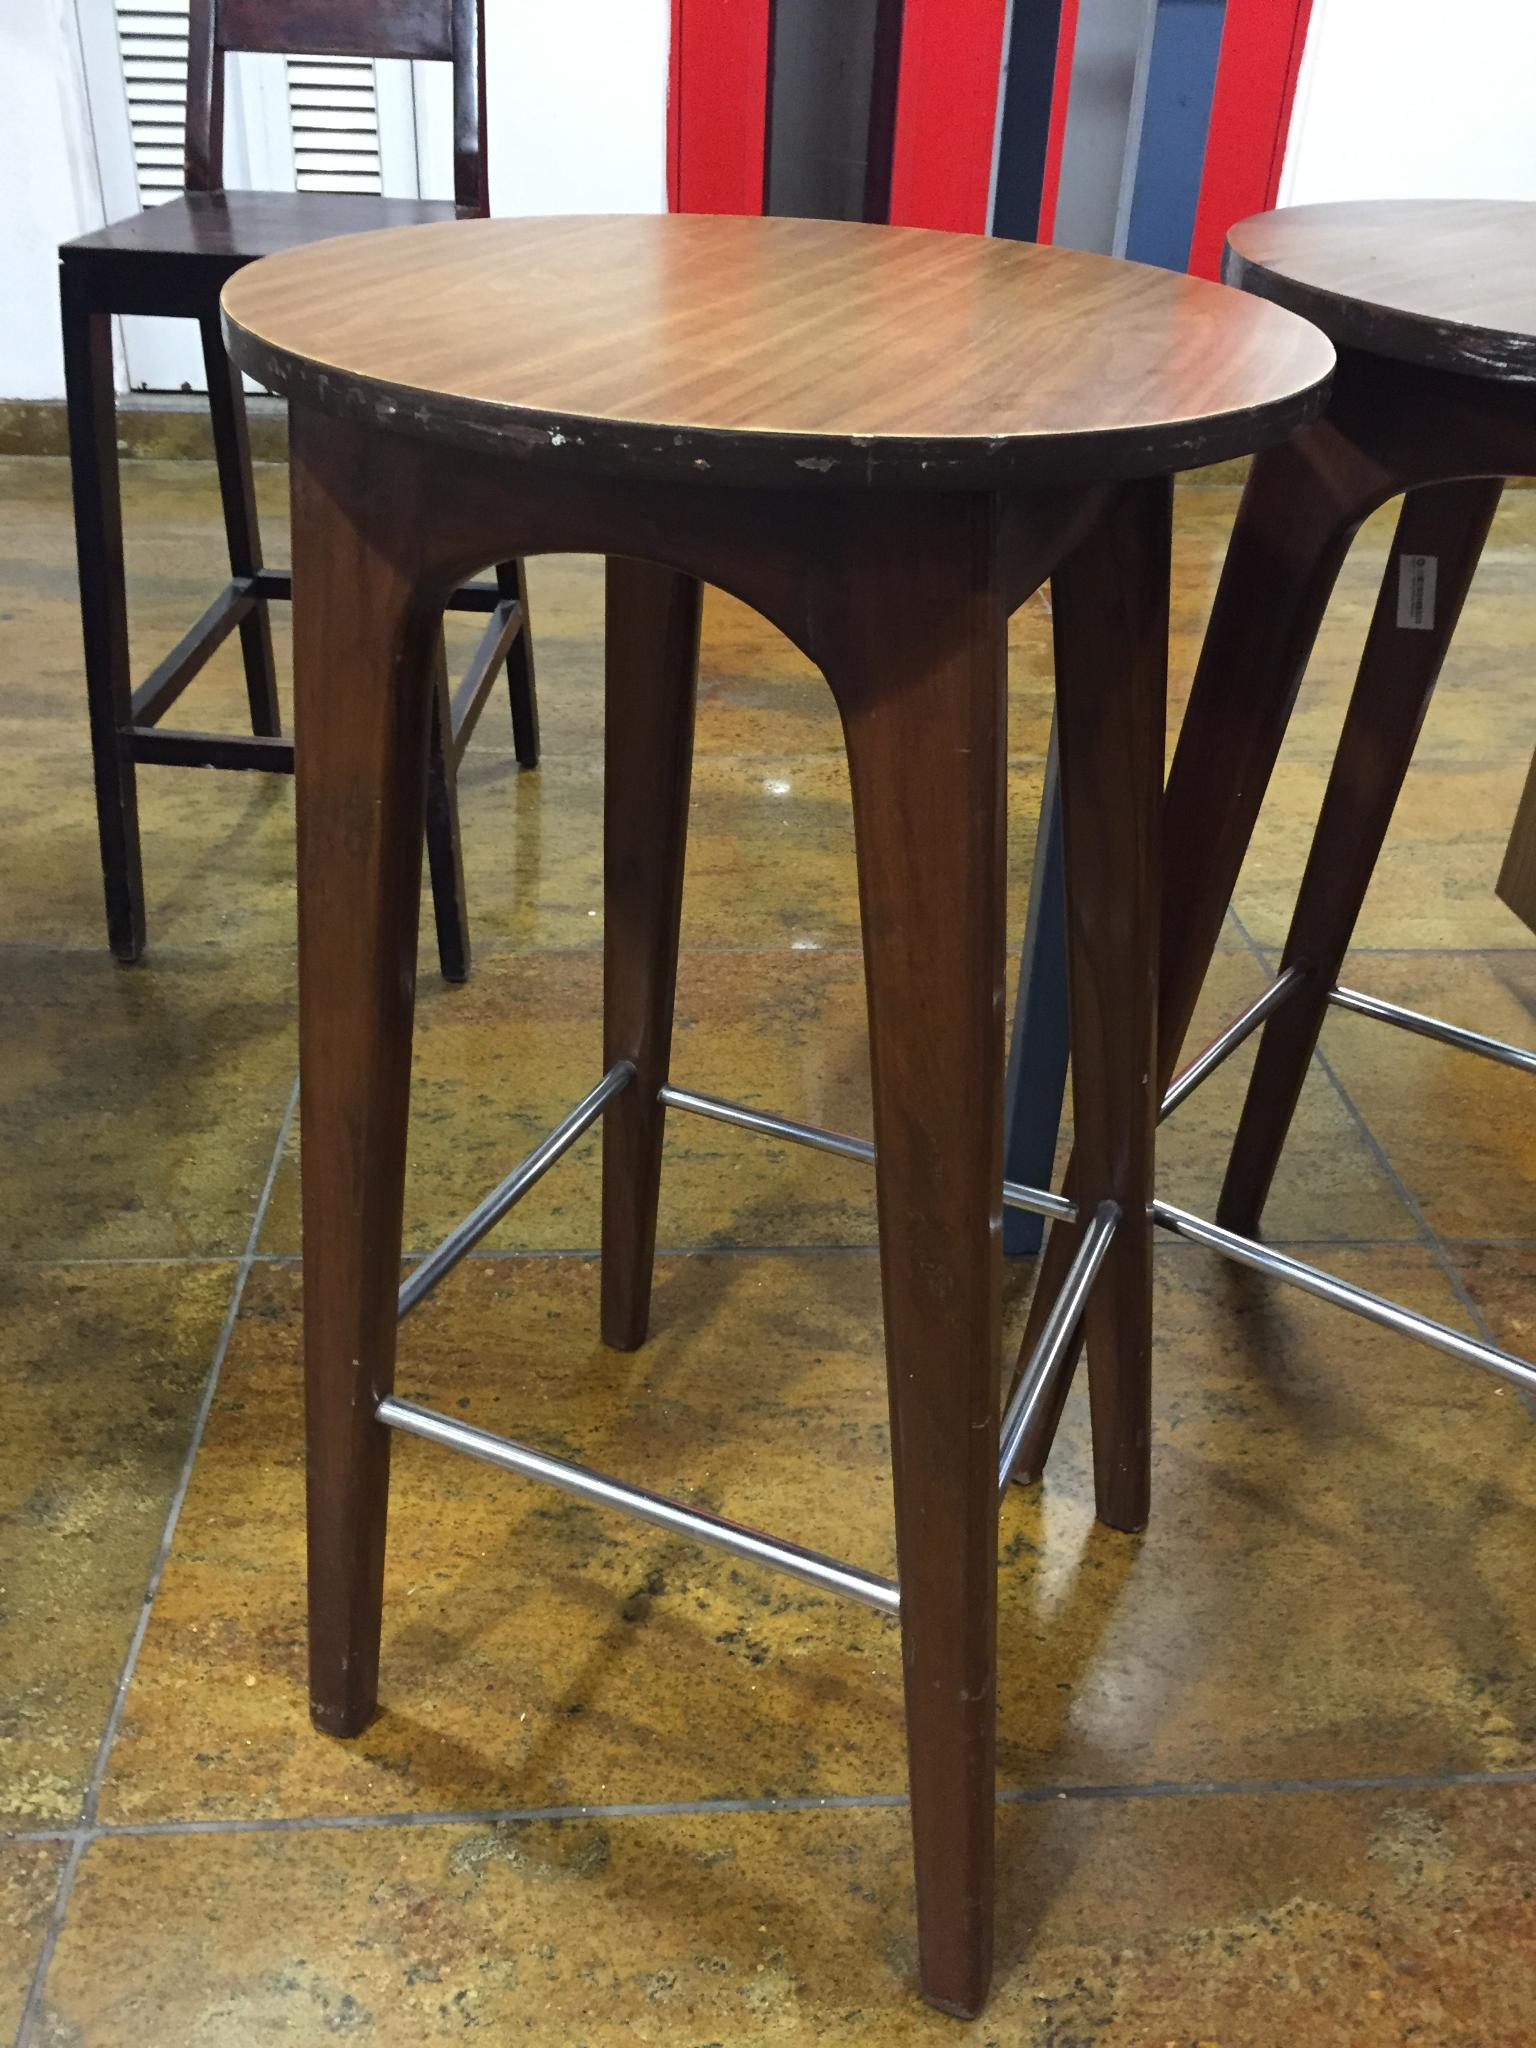chair: (56, 2, 542, 982)
